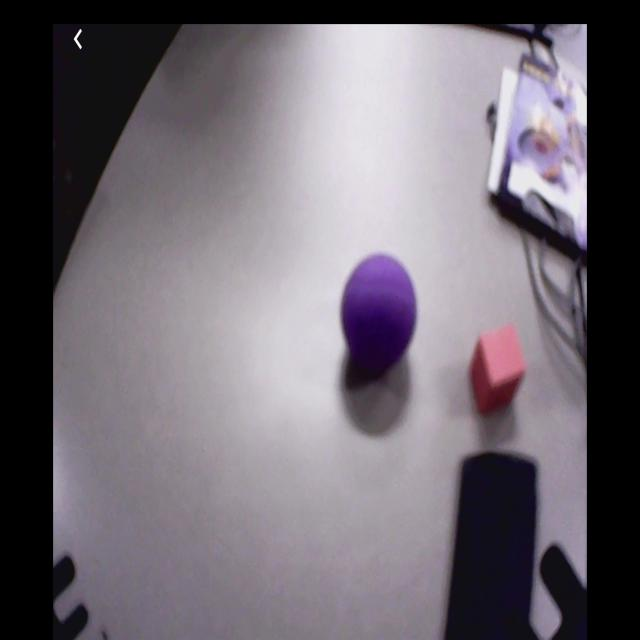ball: (343, 256, 418, 369)
